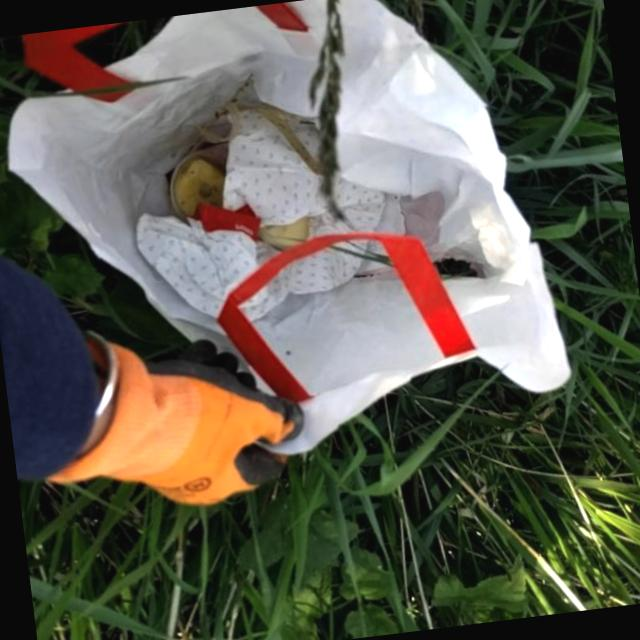Paper: (0, 0, 578, 487)
